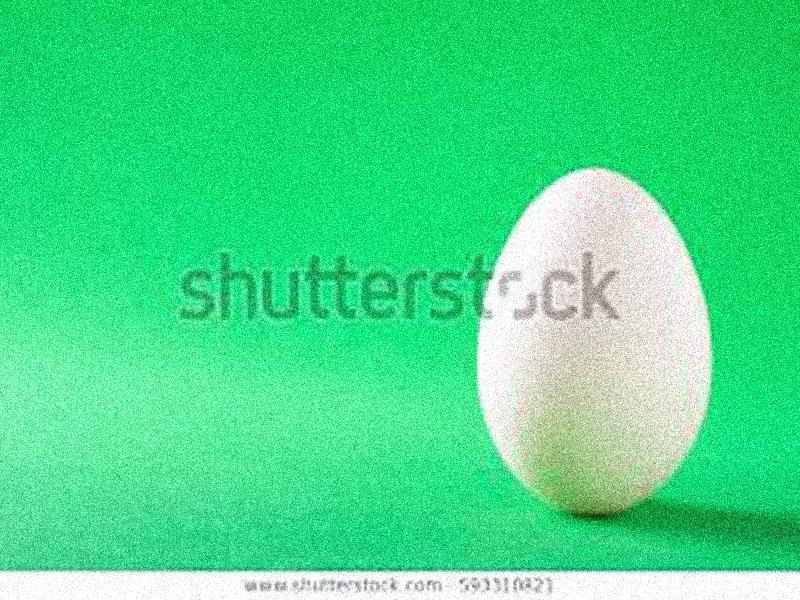Eggs: (478, 169, 713, 520)
